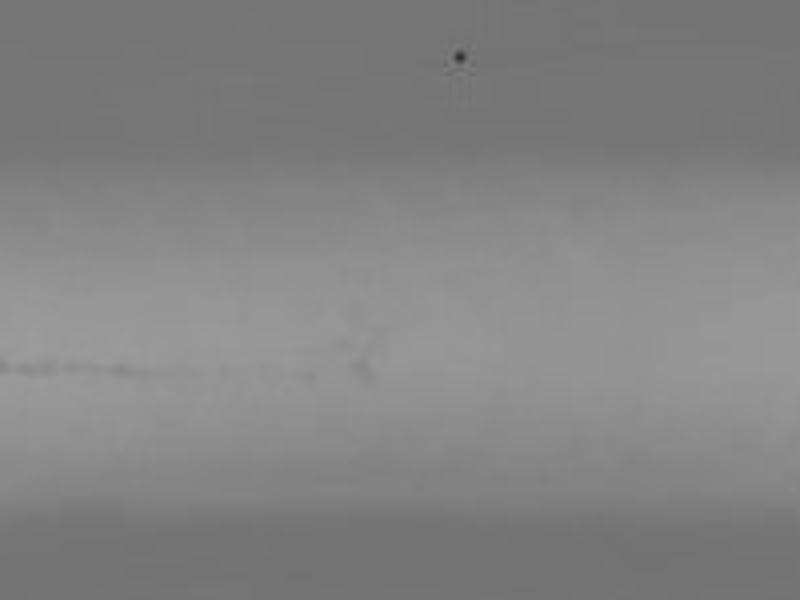defect: (113, 362, 135, 379), (451, 49, 469, 64)
